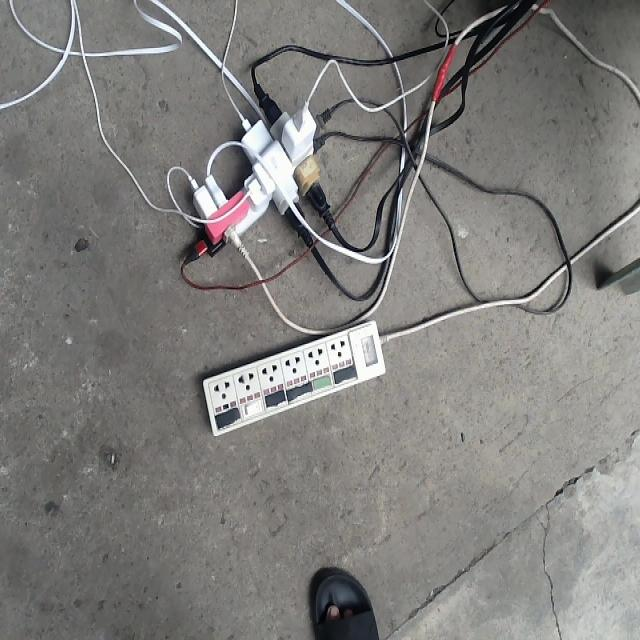-: (152, 39, 402, 316)
